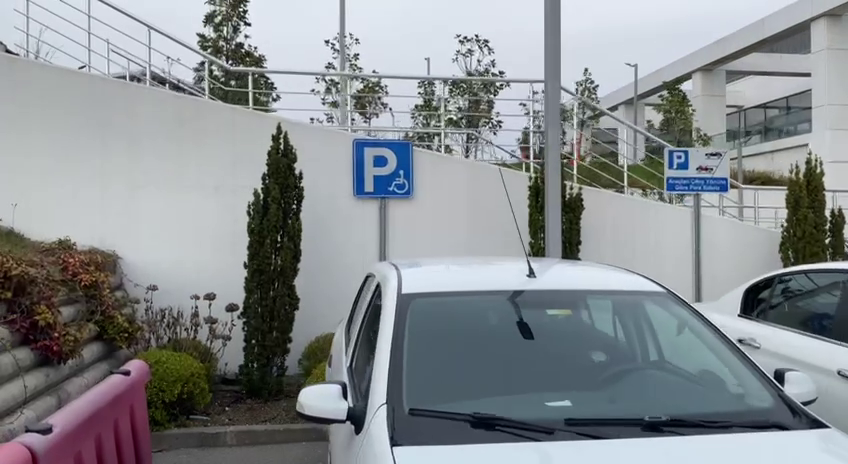parking: (350, 137, 415, 199), (666, 148, 692, 172)
